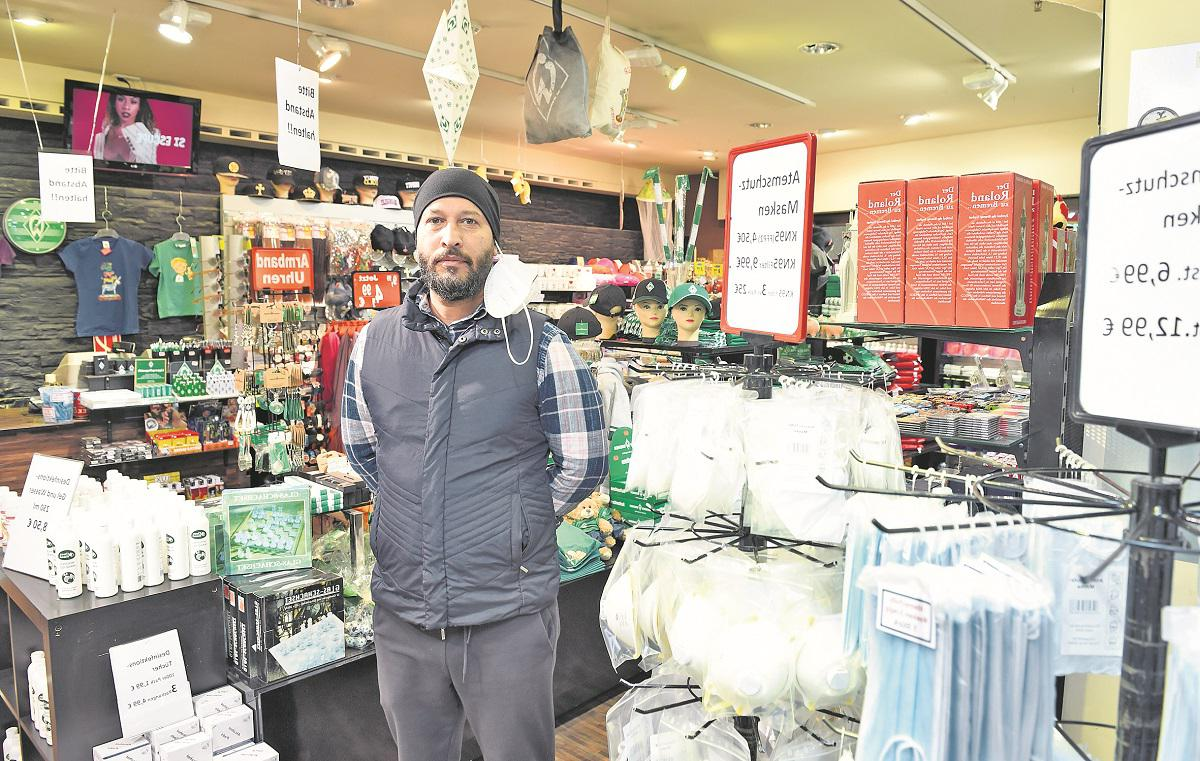without_mask: (423, 209, 479, 293), (110, 92, 147, 125)
